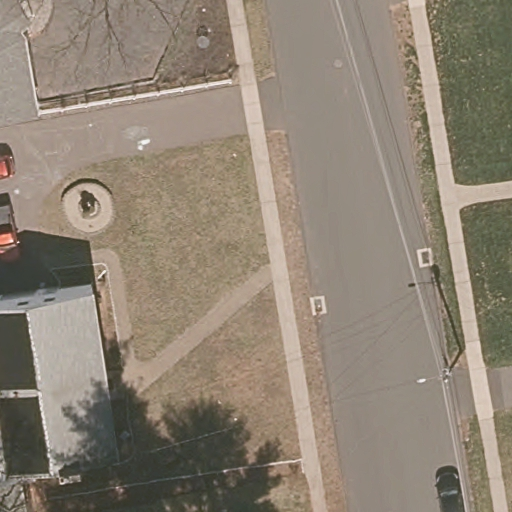DT: (416, 348, 466, 384)
